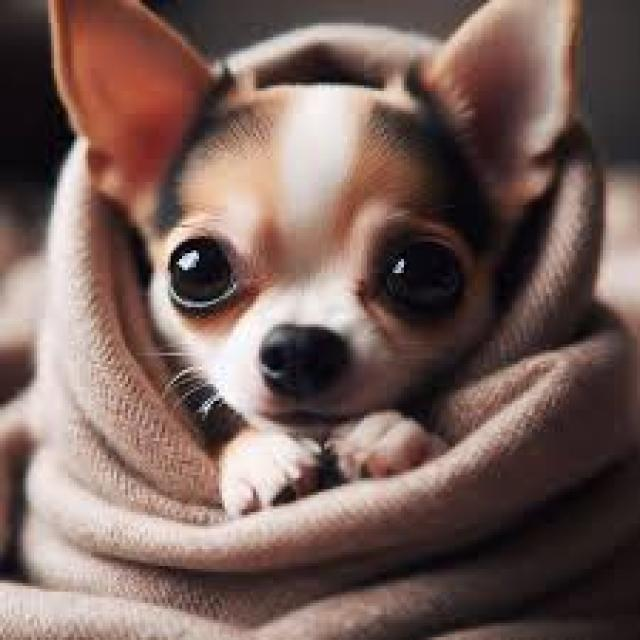dog: (52, 1, 579, 489)
